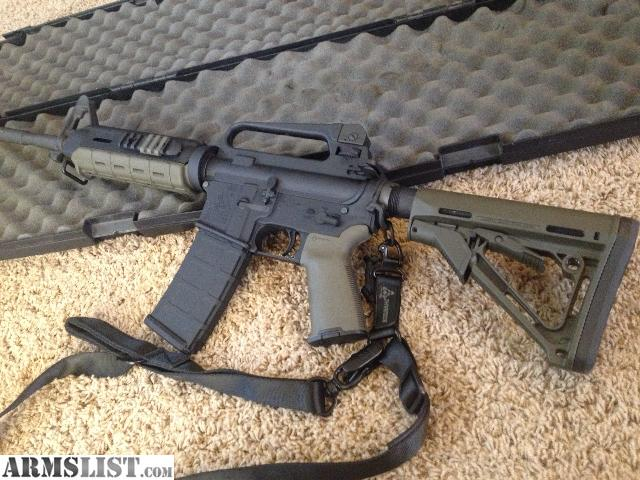Rifle: (1, 90, 638, 385)
